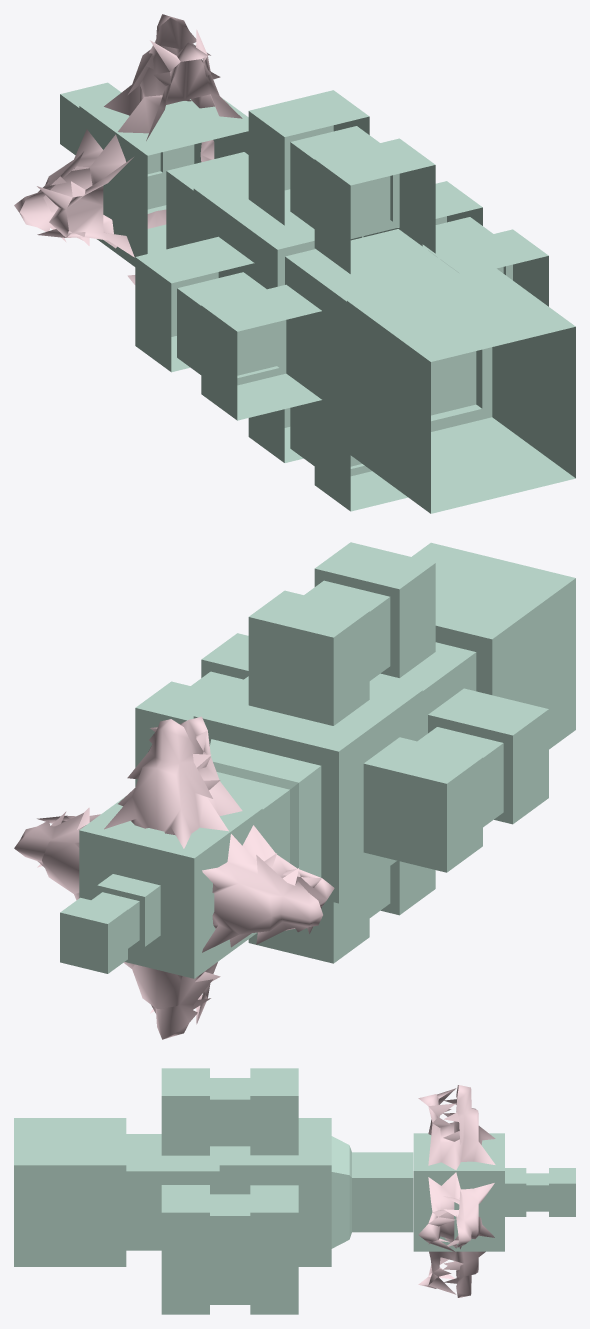
3 renders of one model, top to bottom at view 1: azimuth 30°, elevation 25°; view 2: azimuth 150°, elevation 25°; view 3: azimuth 270°, elevation 25°, orthographic. The views are drawn at different scales.
Parts seen in each view (by area): view 1: Object17; view 2: Object17; view 3: Object17.
Part boxes in pixels (x1,y1,x2,y2): Object17: [14, 14, 575, 513]; Object17: [14, 542, 575, 1039]; Object17: [14, 1068, 575, 1314].
Bounding box in the file's own units: 21651 × 21651 × 50482.
